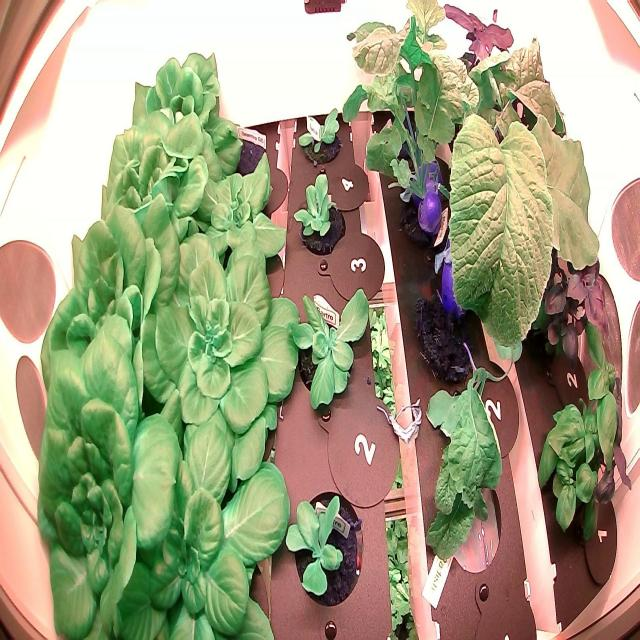Ready: (29, 332, 182, 639), (38, 201, 160, 438), (126, 46, 247, 197), (97, 123, 210, 269)
empty_pod: (436, 466, 505, 582)
pod: (222, 128, 269, 194)
young: (130, 229, 302, 484), (117, 399, 291, 640), (192, 145, 292, 282), (286, 279, 376, 426), (283, 482, 373, 614), (290, 168, 351, 266), (294, 101, 346, 169)
